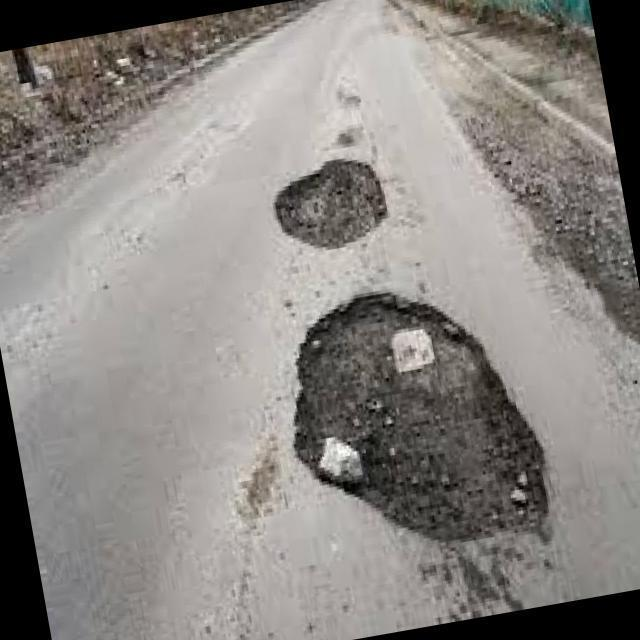-: (294, 288, 565, 618), (275, 158, 386, 252)
